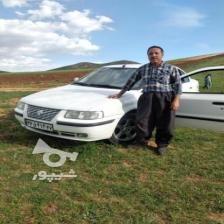plate: (24, 118, 53, 130)
